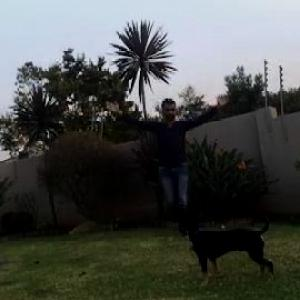takeoff: (101, 94, 229, 228)
